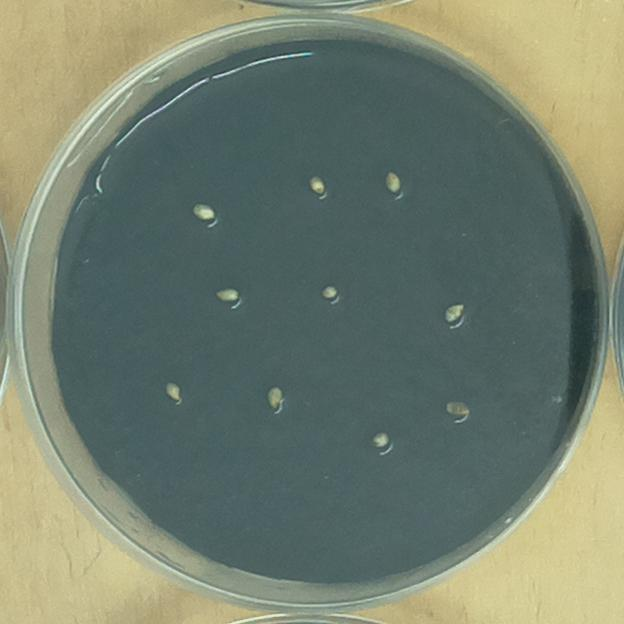pg_im: (204, 279, 251, 316), (183, 193, 224, 232), (257, 377, 293, 420), (363, 421, 401, 461), (298, 168, 337, 204), (437, 393, 477, 428), (376, 164, 411, 203), (437, 298, 473, 334), (155, 374, 189, 410), (312, 277, 348, 310)
